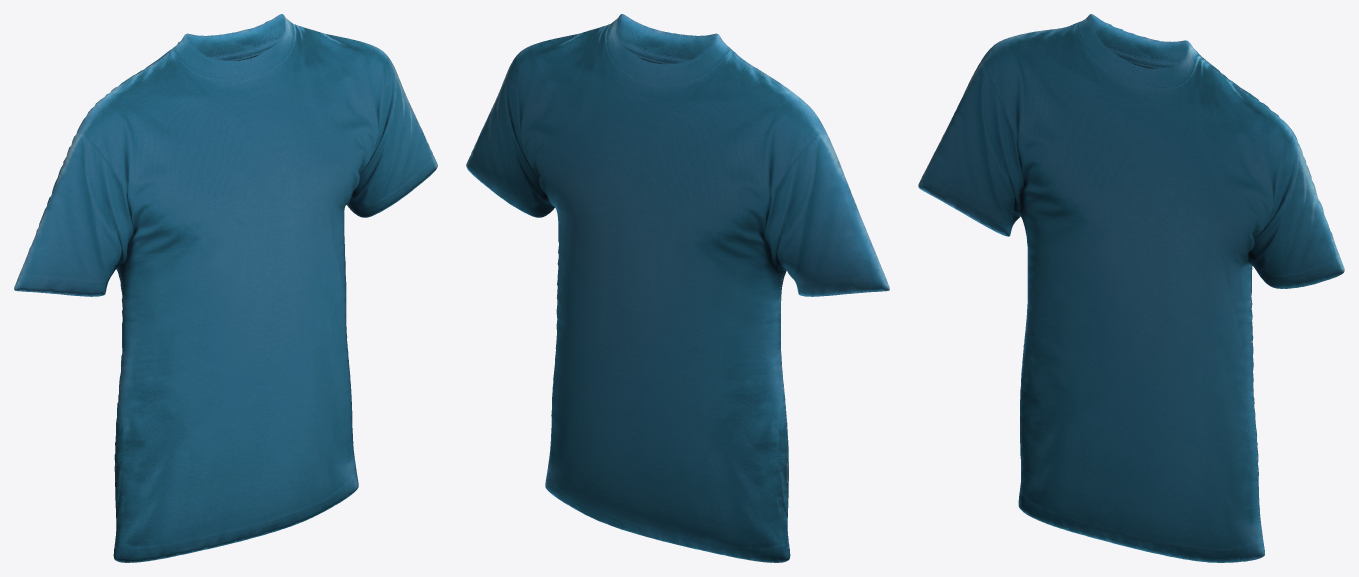
File: sky-blue-t-shirt.glb
3 renders of one model, left to right at view 1: azimuth 30°, elevation 25°; view 2: azimuth 150°, elevation 25°; view 3: azimuth 330°, elevation 25°, orthographic.
Visible parts, largest first — view 1: sky-blue-t-shirt; view 2: sky-blue-t-shirt; view 3: sky-blue-t-shirt.
Part boxes in pixels (x1,y1,x2,y2): sky-blue-t-shirt: (14,14,437,562); sky-blue-t-shirt: (466,14,889,562); sky-blue-t-shirt: (918,14,1344,562).
Size of the model in its own units: 1.56 by 1.83 by 0.1756.
1 material, 1 textured.
